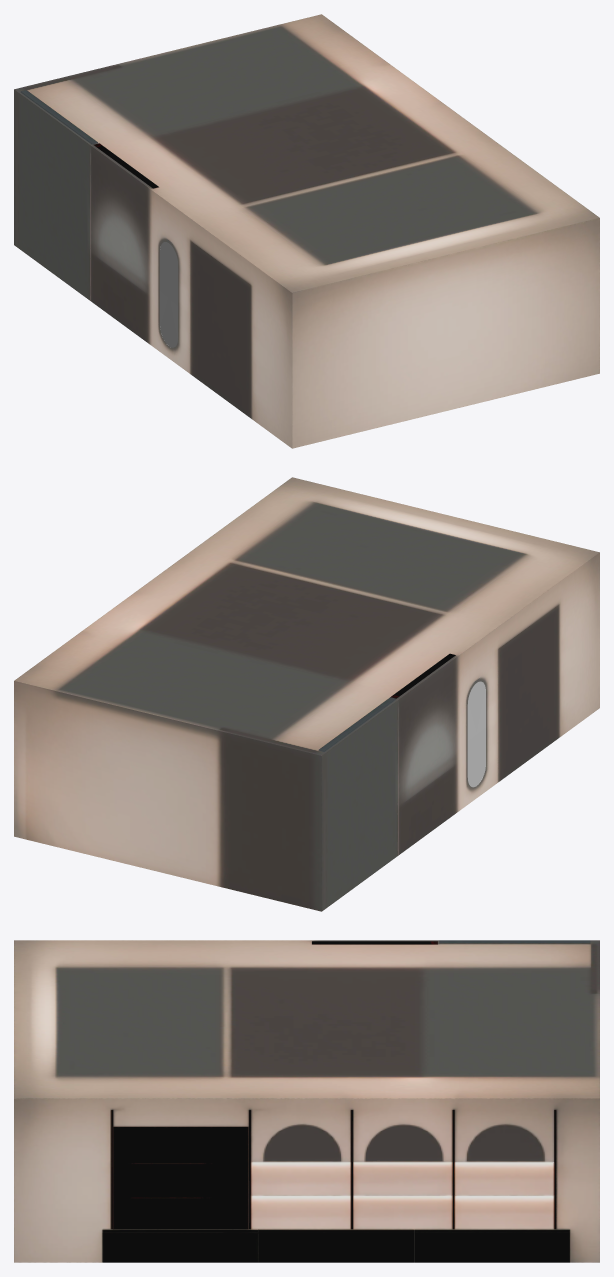
File: Glowbar.glb
3 views of the same model, one above another, from view 1: azimuth 30°, elevation 25°; view 2: azimuth 150°, elevation 25°; view 3: azimuth 270°, elevation 25° (orthographic). The views are drawn at different scales.
Parts seen in each view (by area): view 1: Room.003, Room.004, Room.005, Room; view 2: Room.003, Room.004, Room.005, Room; view 3: Room.004, Room.001, Props, Room.
Boxes of the visible parts, x1,y1,x2,y2 form: Room.003: (14,89,599,448); Room.004: (14,14,599,292); Room.005: (160,242,177,347); Room: (20,90,158,188); Room.003: (14,552,599,911); Room.004: (14,477,599,755); Room.005: (467,681,485,787); Room: (318,653,455,751); Room.004: (14,940,599,1098); Room.001: (14,1098,599,1262); Props: (102,1110,570,1262); Room: (312,940,590,944).
Size of the model in its own units: 80.85 by 39.41 by 126.
Materials: 17 (14 with a texture image).
